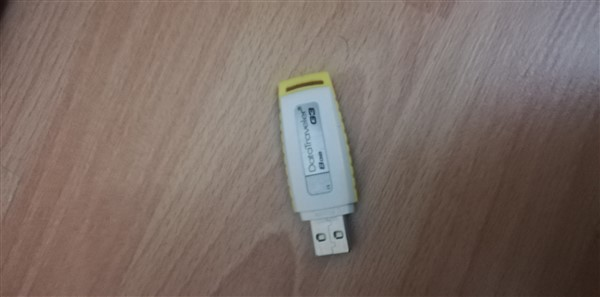flash disk: (273, 73, 364, 258)
